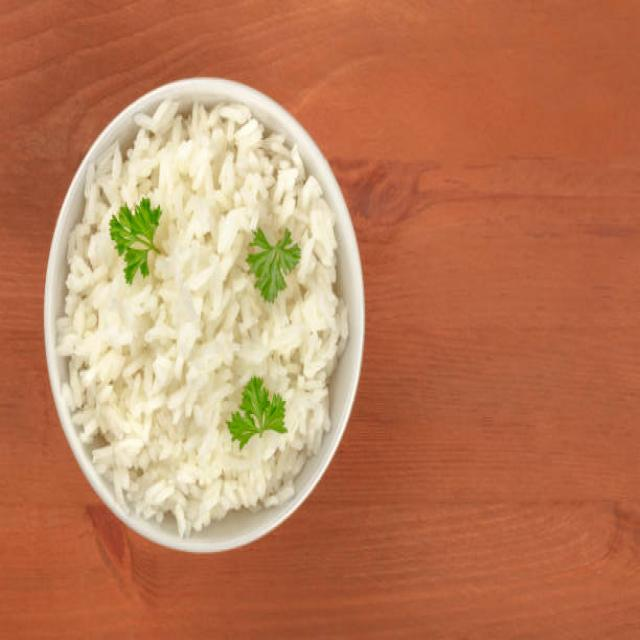rice: (58, 98, 348, 540)
